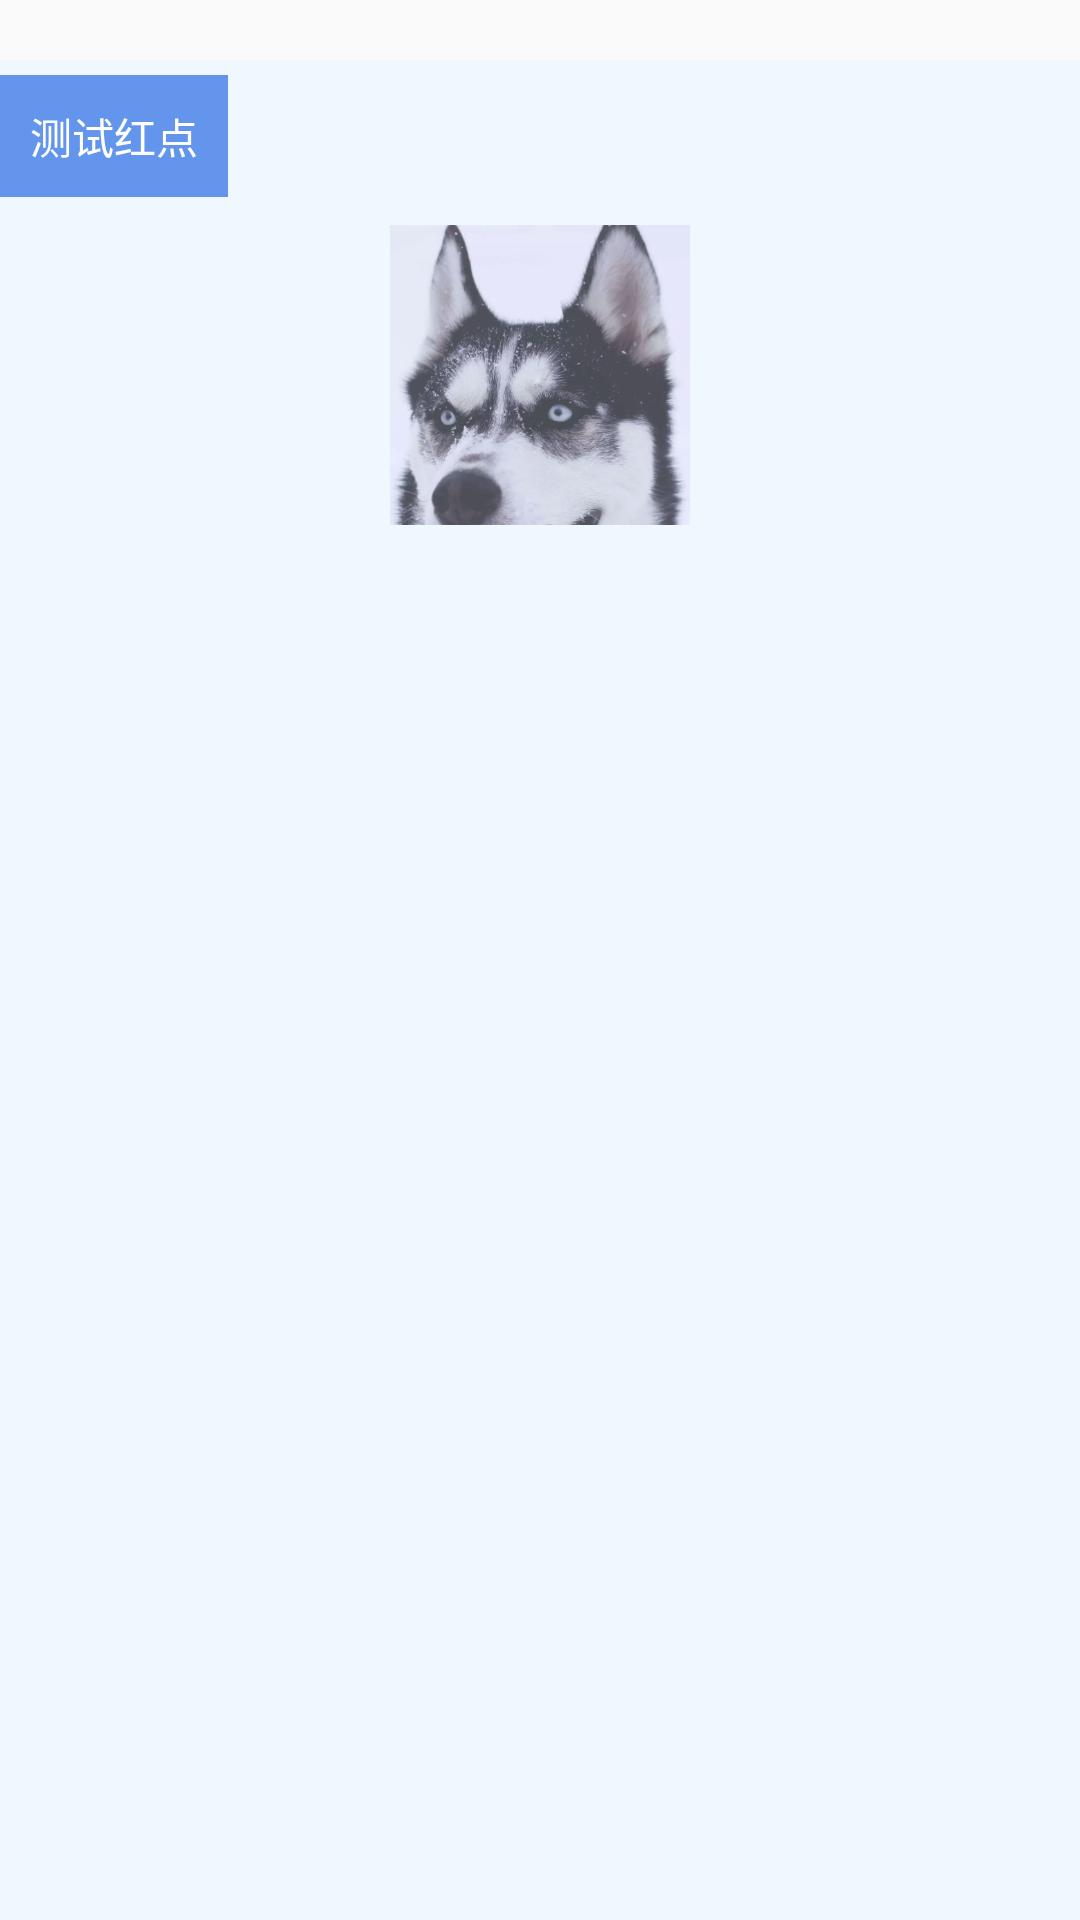

Icon click points for this 1080px×1920px phone screenshot, format [x,y]:
dog: [539,375]
